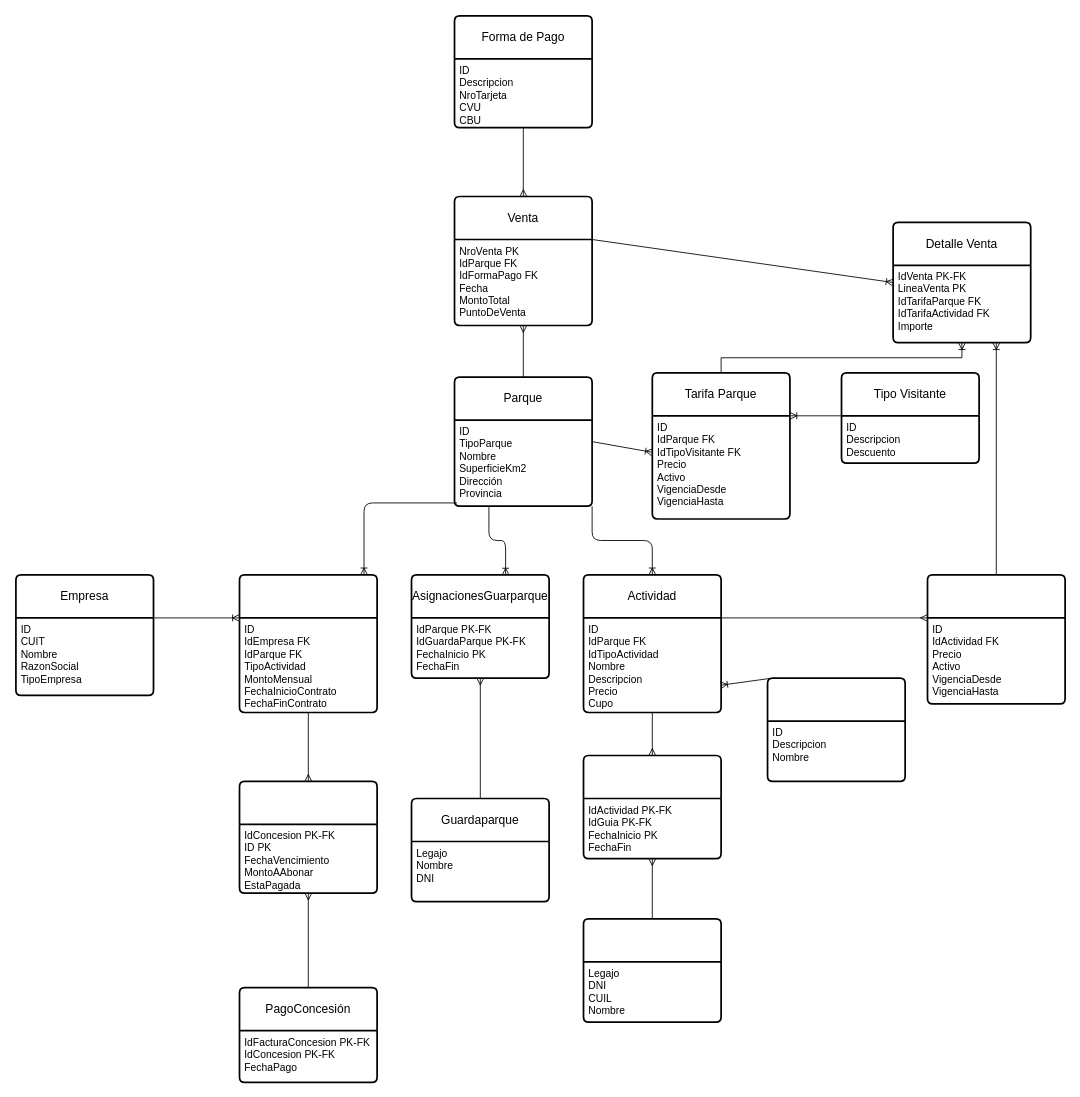
The diagram is 1080 pixels wide and 1097 high, and some of its shapes have lost their labels. The box of each missing label's shape, as (x1, y1, x2, y2) in pixels:
Concesion: (238, 574, 378, 713)
FacturaConcesión: (238, 780, 378, 894)
Guia: (582, 918, 722, 1023)
GuiaActividad: (582, 754, 722, 859)
TarifaActividad: (926, 574, 1066, 704)
Tipo Actividad: (766, 677, 906, 782)
